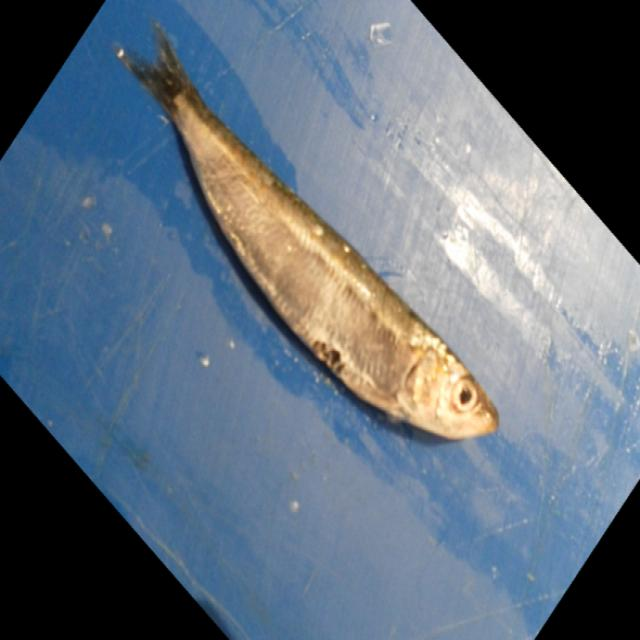Black-Sea-Sprat-tirsi-: (113, 24, 499, 444)
